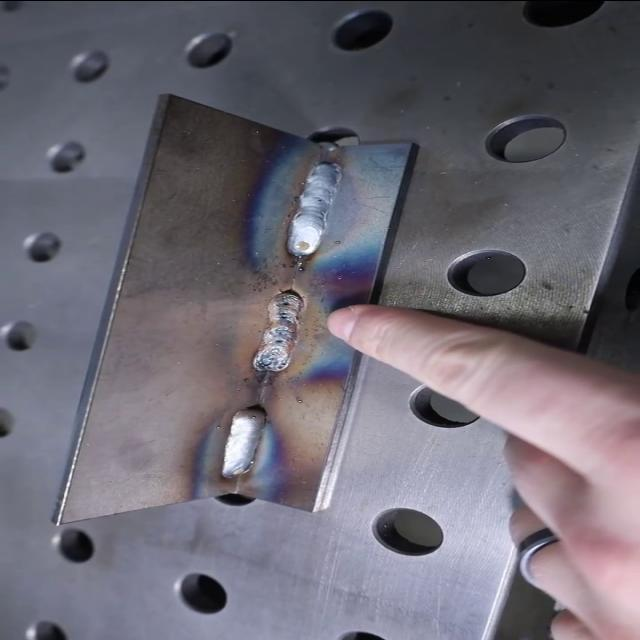Dry: (282, 140, 352, 236), (247, 290, 309, 372), (212, 405, 264, 477), (276, 301, 294, 320), (271, 338, 289, 344)
